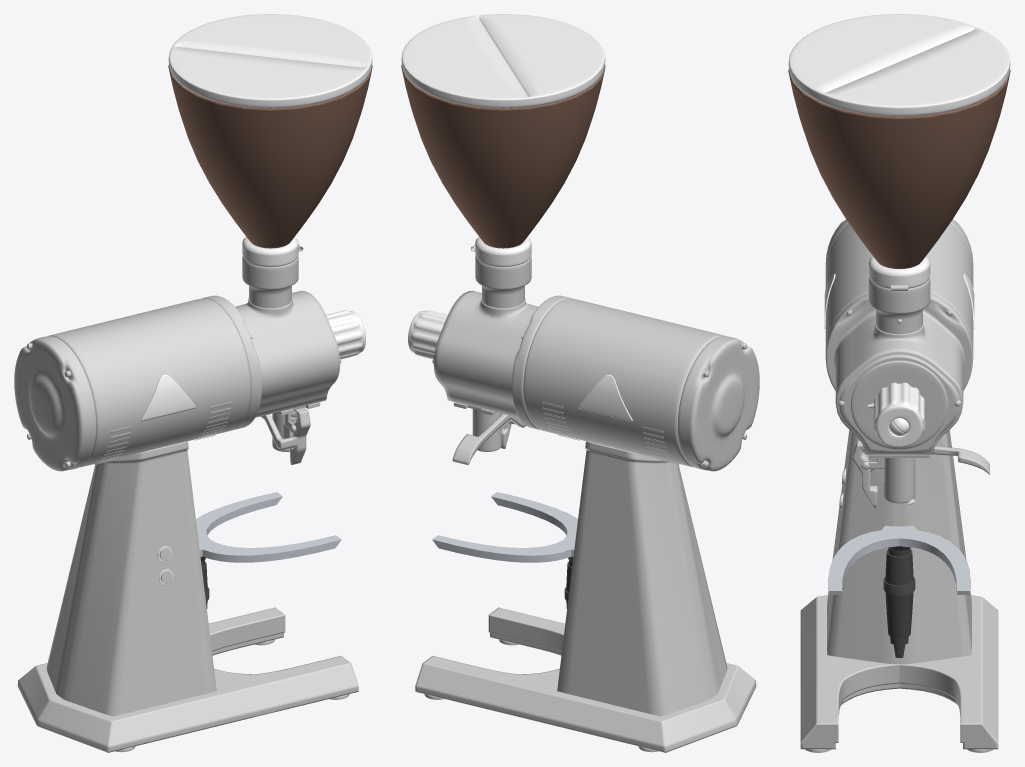
Rendered from MOLIENDA.fbx.
3 views of the same model, side by side, from view 1: azimuth 30°, elevation 25°; view 2: azimuth 150°, elevation 25°; view 3: azimuth 270°, elevation 25° (orthographic). The views are drawn at different scales.
Parts seen in each view (by area): view 1: Object_3.001; view 2: Object_3.001; view 3: Object_3.001.
Boxes of the visible parts, x1,y1,x2,y2 form: Object_3.001: (14,14,372,752); Object_3.001: (401,14,759,752); Object_3.001: (788,14,1010,752).
Size of the model in its own units: 254 by 464 by 139.
